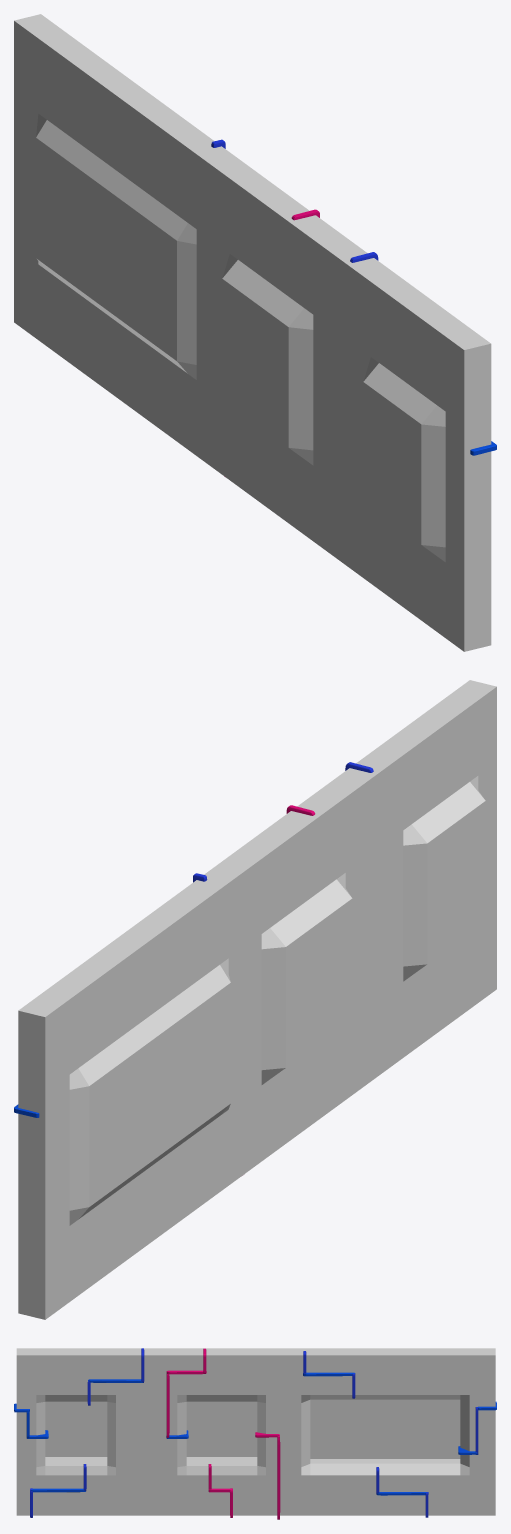
The model's file is Conrtroller-Lights.fbx.
The picture shows the model from 3 angles, top to bottom: view 1: azimuth 30°, elevation 25°; view 2: azimuth 150°, elevation 25°; view 3: azimuth 270°, elevation 25°; orthographic projection. The views are drawn at different scales.
Parts seen in each view (by area): view 1: Cube.015; view 2: Cube.015; view 3: Cube.015, Cube.027, Cube.010, Cube.020, Cube.029, Cube.014.
Boxes of the visible parts, x1,y1,x2,y2 form: Cube.015: (14,14,491,651); Cube.015: (18,680,496,1319); Cube.015: (16,1348,495,1515); Cube.027: (277,1434,280,1519); Cube.010: (31,1488,85,1492); Cube.020: (166,1373,169,1437); Cube.029: (303,1372,355,1376); Cube.014: (88,1379,143,1382).
Size of the model in its own units: 33.67 by 208 by 546.
